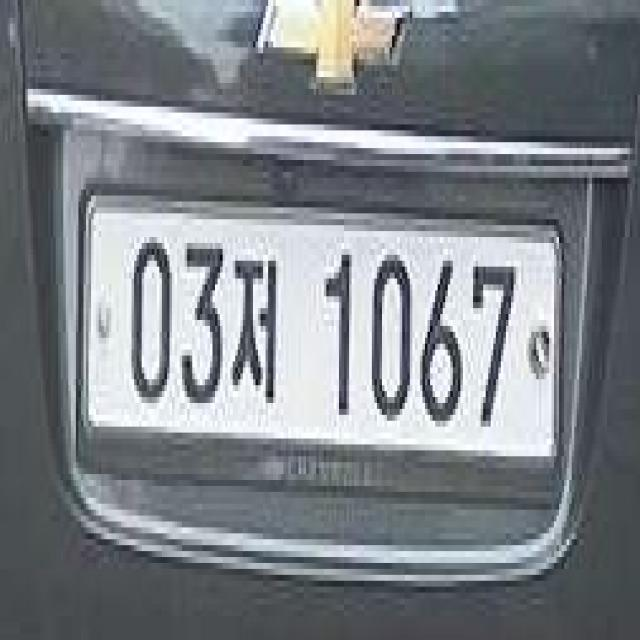illegal_plate: (82, 181, 572, 520)
